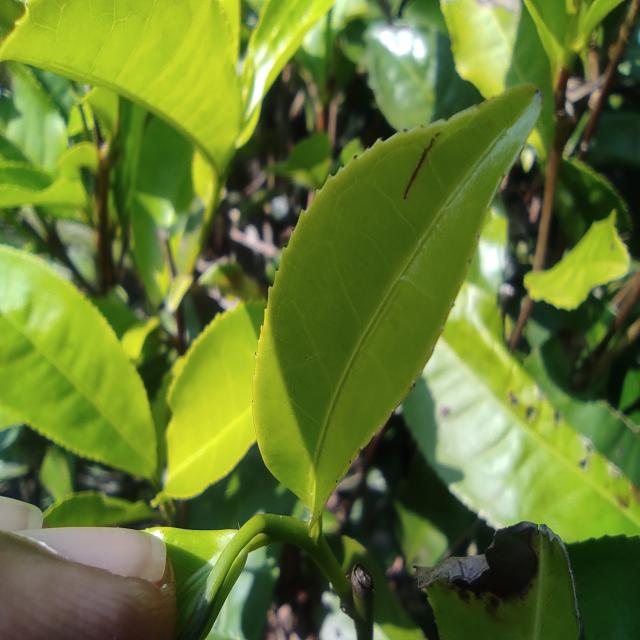Category C 4-7 days: (234, 71, 550, 594)
